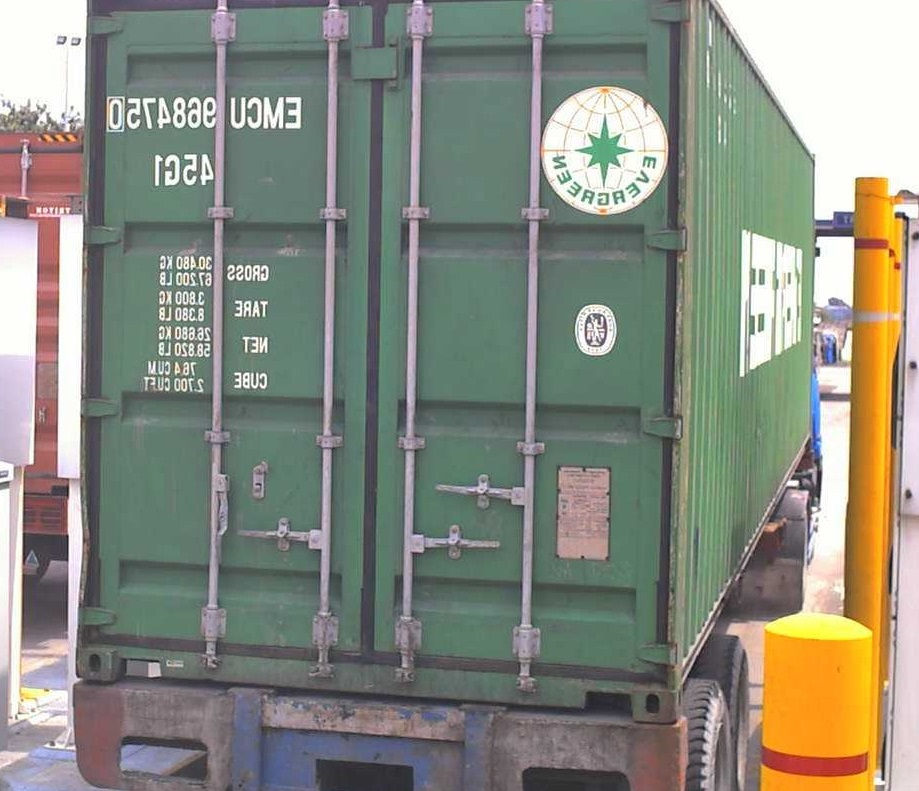container_door: (80, 1, 679, 722)
